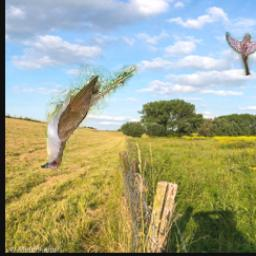Cuckoo: (39, 65, 140, 170)
Sparrow: (226, 32, 256, 75)
